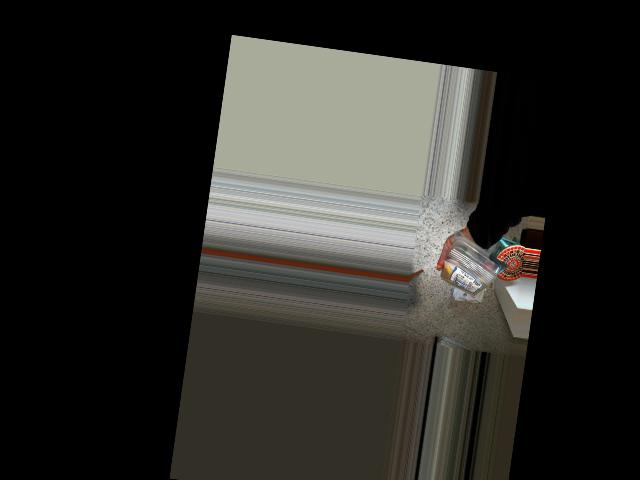cheese: (438, 229, 514, 312)
